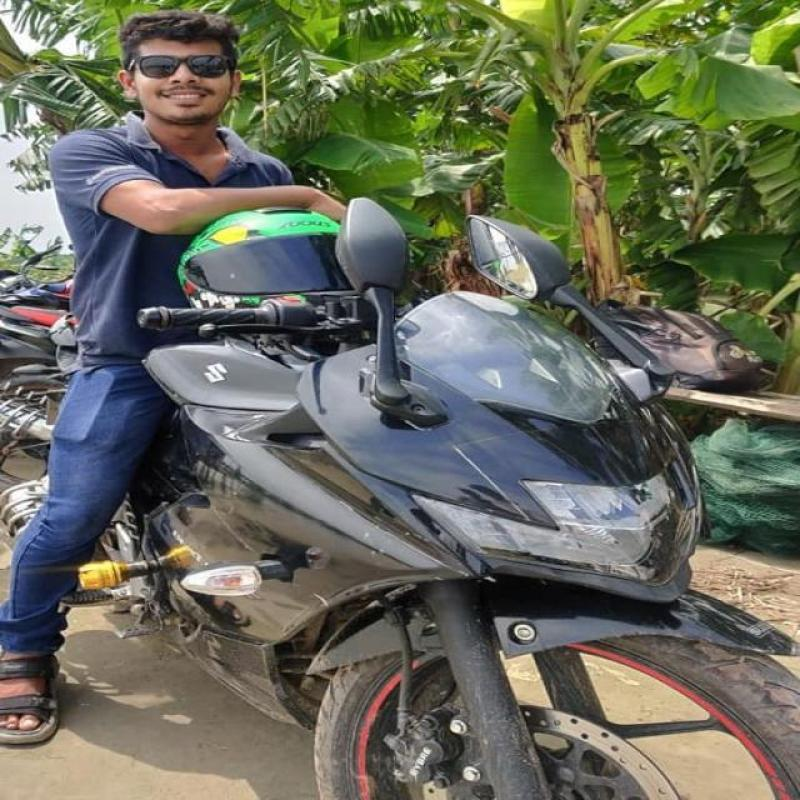nohelmet: (99, 12, 236, 130)
